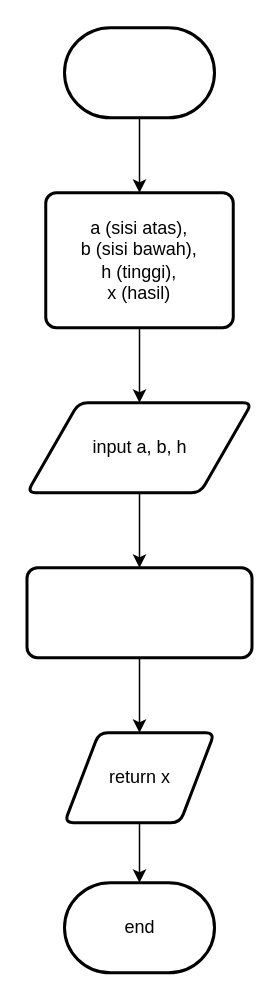
Some shapes in this 279 by 999 pixel diagram are drawn without their labels. The shapes that lost their labels are listed below. From the top down, each one's box as (x1, y1, x2, y2) in pixels, then its label:
(62, 26, 215, 118): start
(25, 566, 253, 658): x = (1/2) * (a+b) * h
